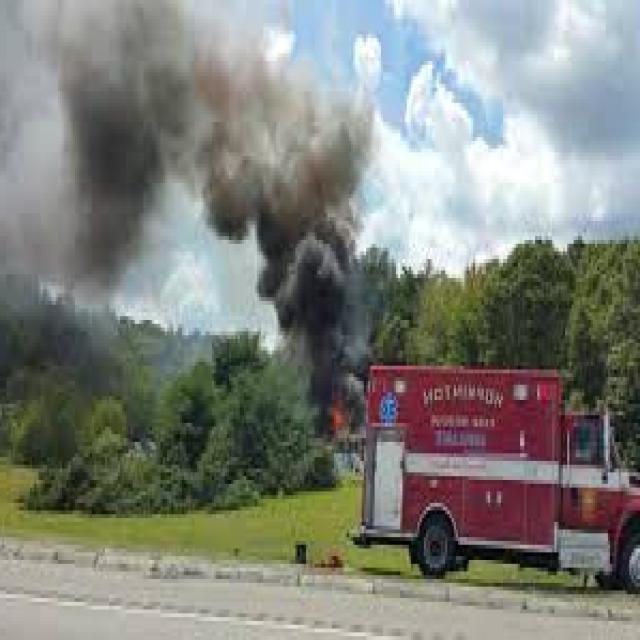Fire: (326, 386, 348, 452)
Smoke: (0, 0, 370, 462)
